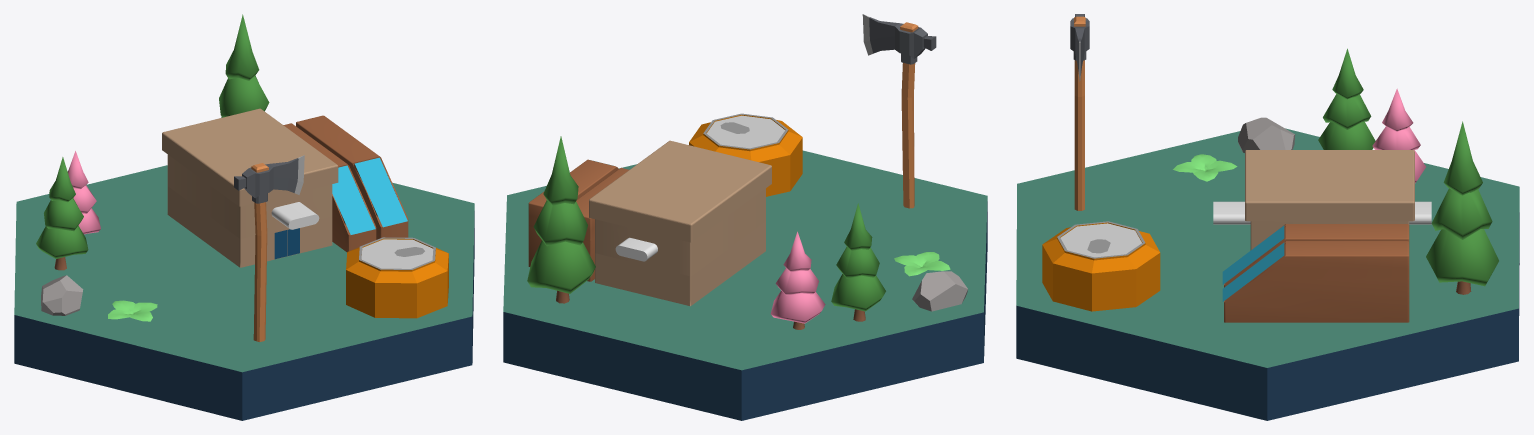
File: Macro - Factory lvl 1 WM1.fbx
3 views of the same model, side by side, from view 1: azimuth 30°, elevation 25°; view 2: azimuth 150°, elevation 25°; view 3: azimuth 270°, elevation 25° (orthographic). The views are drawn at different scales.
Parts seen in each view (by area): view 1: Cylinder.155, Cube.074, drink_004.003, axe v:130 f:129, Tree_Spruce_tiny_01.001, Cube.035, Tree_Spruce_tiny_01.002, Plane.086, Cube.069, Plane.087, Rock Type2 04 mesh.001, Tree_Spruce_tiny_01.003 (+2 smaller); view 2: Cylinder.155, Cube.074, Tree_Spruce_tiny_01.002, drink_004.003, axe v:130 f:129, Tree_Spruce_tiny_01.001, Tree_Spruce_tiny_01.003, Cube.035, Rock Type2 04 mesh.001, Cube.069, Plane.011, Cutter.014; view 3: Cylinder.155, Cube.074, Cube.035, drink_004.003, Tree_Spruce_tiny_01.002, Tree_Spruce_tiny_01.001, axe v:130 f:129, Cube.069, Tree_Spruce_tiny_01.003, Rock Type2 04 mesh.001, Cutter.014, Plane.011 (+2 smaller).
Part boxes in pixels (x1=…): Cylinder.155: x1=14, y1=165, x2=474, y2=420; Cube.074: x1=162, y1=108, x2=338, y2=267; drink_004.003: x1=346, y1=237, x2=448, y2=318; axe v:130 f:129: x1=234, y1=155, x2=304, y2=341; Tree_Spruce_tiny_01.001: x1=36, y1=157, x2=88, y2=270; Cube.035: x1=296, y1=115, x2=408, y2=239; Tree_Spruce_tiny_01.002: x1=219, y1=14, x2=269, y2=117; Plane.086: x1=355, y1=157, x2=407, y2=227; Cube.069: x1=283, y1=123, x2=376, y2=252; Plane.087: x1=332, y1=165, x2=375, y2=234; Rock Type2 04 mesh.001: x1=41, y1=275, x2=83, y2=315; Tree_Spruce_tiny_01.003: x1=67, y1=151, x2=100, y2=234; Cylinder.155: x1=503, y1=150, x2=987, y2=420; Cube.074: x1=589, y1=140, x2=771, y2=306; Tree_Spruce_tiny_01.002: x1=527, y1=136, x2=595, y2=303; drink_004.003: x1=689, y1=113, x2=802, y2=196; axe v:130 f:129: x1=862, y1=14, x2=936, y2=208; Tree_Spruce_tiny_01.001: x1=831, y1=203, x2=885, y2=321; Tree_Spruce_tiny_01.003: x1=770, y1=231, x2=825, y2=329; Cube.035: x1=528, y1=159, x2=618, y2=266; Rock Type2 04 mesh.001: x1=912, y1=271, x2=967, y2=311; Cube.069: x1=576, y1=167, x2=629, y2=281; Plane.011: x1=894, y1=252, x2=950, y2=276; Cutter.014: x1=615, y1=237, x2=657, y2=261; Cylinder.155: x1=1016, y1=128, x2=1519, y2=420; Cube.074: x1=1245, y1=150, x2=1414, y2=250; Cube.035: x1=1224, y1=241, x2=1409, y2=322; drink_004.003: x1=1042, y1=221, x2=1160, y2=311; Tree_Spruce_tiny_01.002: x1=1426, y1=121, x2=1498, y2=294; Tree_Spruce_tiny_01.001: x1=1318, y1=48, x2=1375, y2=149; axe v:130 f:129: x1=1070, y1=14, x2=1089, y2=210; Cube.069: x1=1224, y1=224, x2=1409, y2=287; Tree_Spruce_tiny_01.003: x1=1372, y1=88, x2=1425, y2=183; Rock Type2 04 mesh.001: x1=1238, y1=117, x2=1295, y2=152; Cutter.014: x1=1213, y1=201, x2=1431, y2=224; Plane.011: x1=1173, y1=154, x2=1237, y2=181.
Bounding box in the file's own units: 197 × 91.66 × 172.
